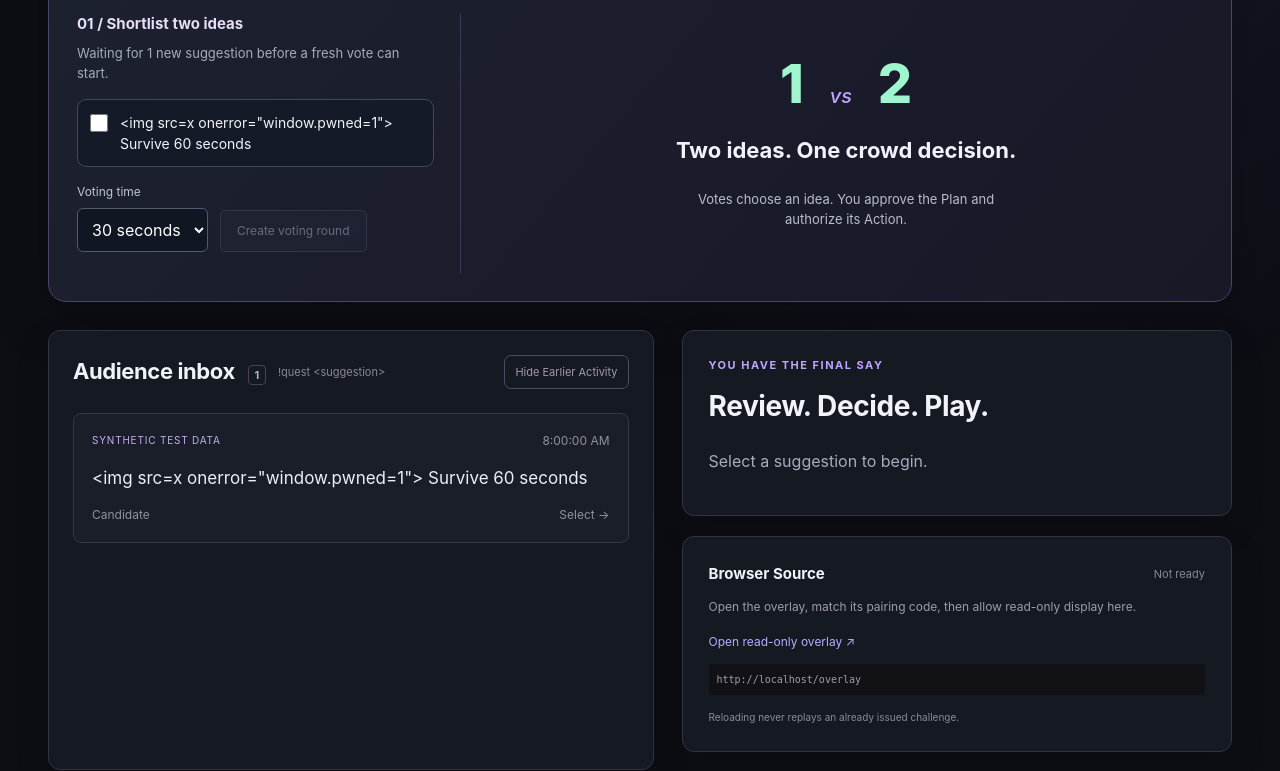
Scenario: confirms a persistent demo-history reset and waits for new suggestions
This screenshot has width=1280, height=771.
(page scrolled)
expect the radio button is shown: met, box left=73, top=413, right=628, bottom=543
Click the button "Hide Earlier Activity": (566,372) left=504, top=355, right=628, bottom=389
(page scrolled)
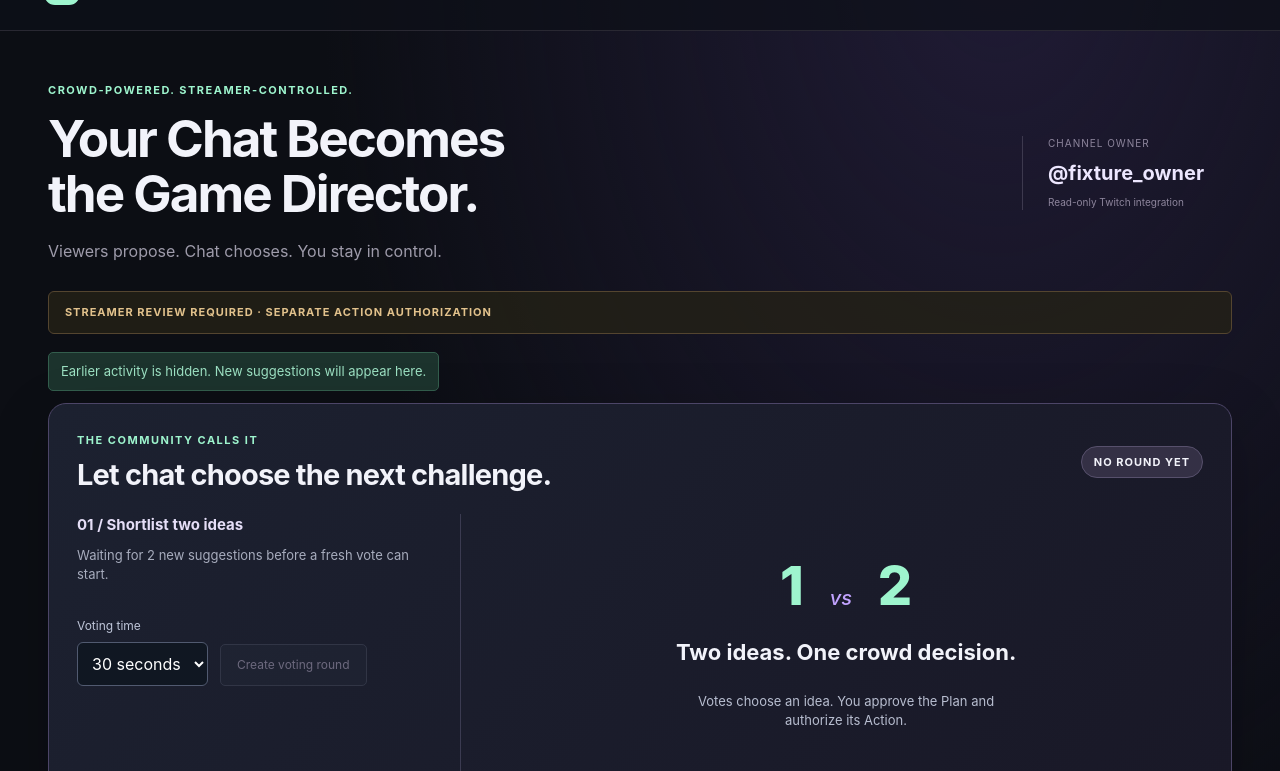
expect the radio button is gone: met
expect the text "Waiting for 2 new suggestions before a fresh vote can start." is shown: met, box left=77, top=546, right=434, bottom=585
expect the text "Earlier activity is hidden. New suggestions will appear here." is shown: met, box left=48, top=352, right=439, bottom=391
